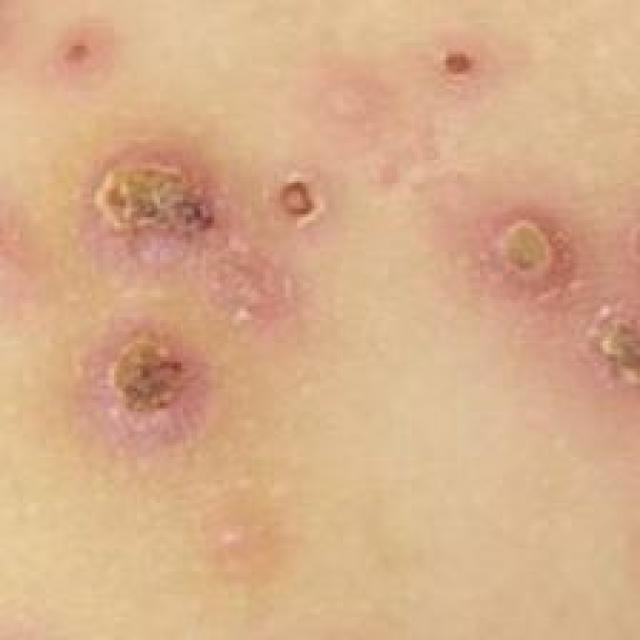others: (54, 107, 640, 605)
